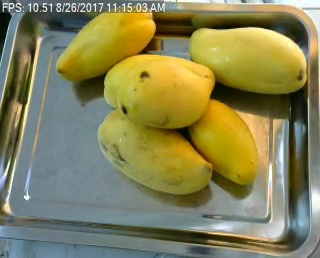Mango: (97, 109, 212, 195), (189, 26, 307, 92), (55, 4, 157, 79), (181, 95, 259, 185), (105, 54, 215, 111), (116, 62, 212, 126)
